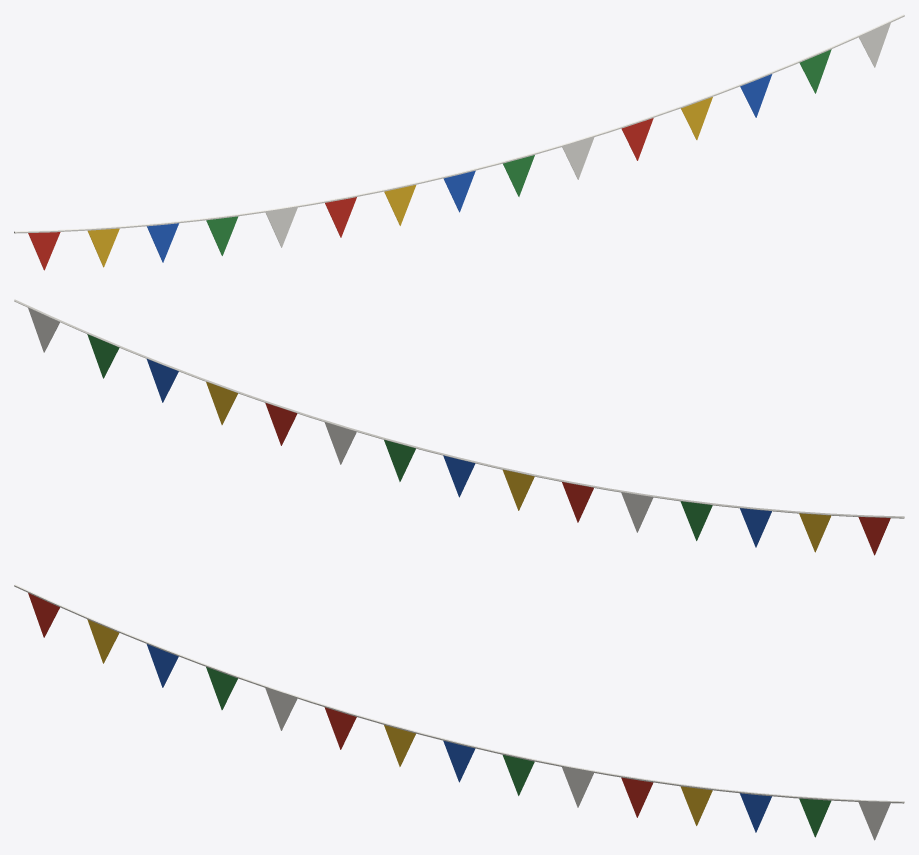
File: bunting.glb
The picture shows the model from 3 angles, top to bottom: view 1: azimuth 30°, elevation 25°; view 2: azimuth 150°, elevation 25°; view 3: azimuth 330°, elevation 25°; orthographic projection.
Parts seen in each view (by area): view 1: bunting; view 2: bunting; view 3: bunting.
Boxes of the visible parts, <box> form: bunting: <box>14,14,904,270</box>; bunting: <box>14,299,904,555</box>; bunting: <box>14,584,904,840</box>.
Bounding box in the file's own units: 30.01 × 2.88 × 0.0633.
